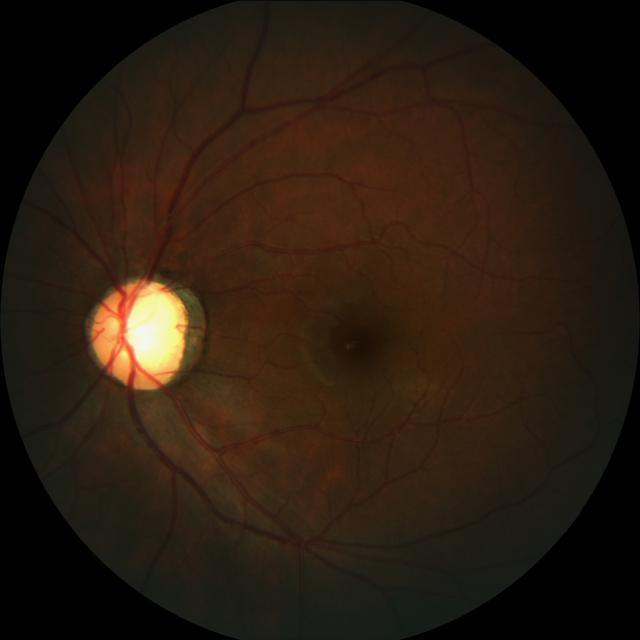OC: (108, 287, 180, 374)
OD: (89, 275, 189, 387)
